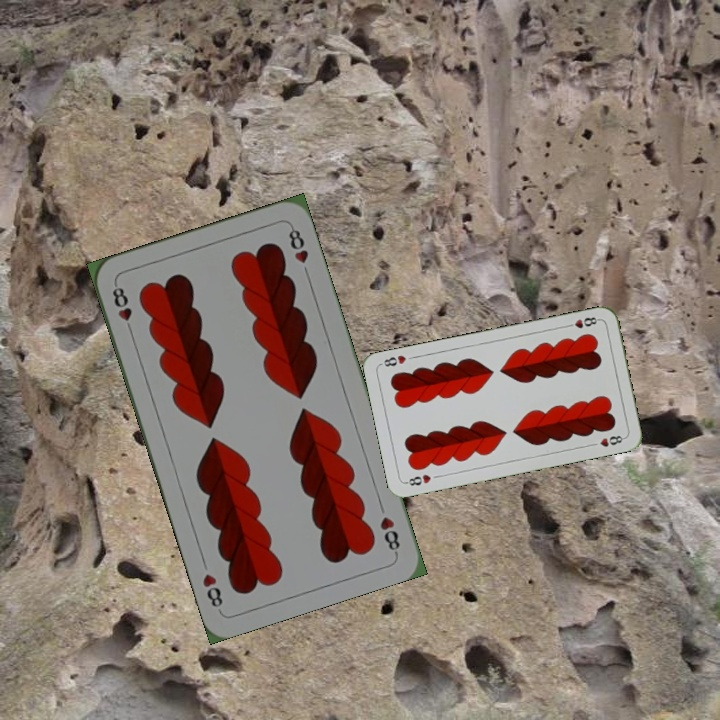H8: (108, 280, 136, 337), (376, 512, 403, 556), (562, 313, 602, 331), (402, 470, 434, 488)
